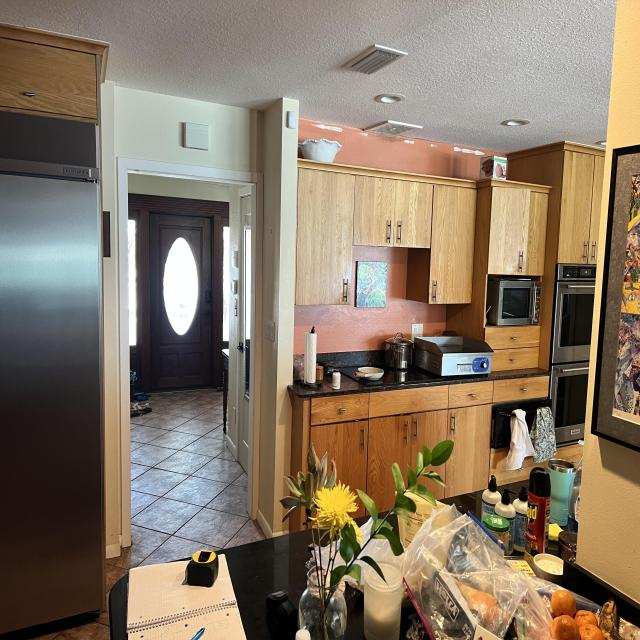Appliance_Fridge: (0, 110, 107, 640)
Appliance_Microwave: (485, 273, 543, 327)
Appliance_Oven: (552, 264, 596, 364), (552, 361, 589, 448)
Cabinet_Flat: (310, 374, 549, 515), (295, 167, 476, 306), (0, 23, 110, 125), (556, 142, 604, 265), (488, 186, 547, 276), (485, 326, 540, 376)
Countertop_Granite: (217, 531, 313, 640), (293, 369, 552, 399), (547, 564, 640, 628), (109, 577, 130, 640), (445, 492, 484, 523), (346, 588, 368, 640)
